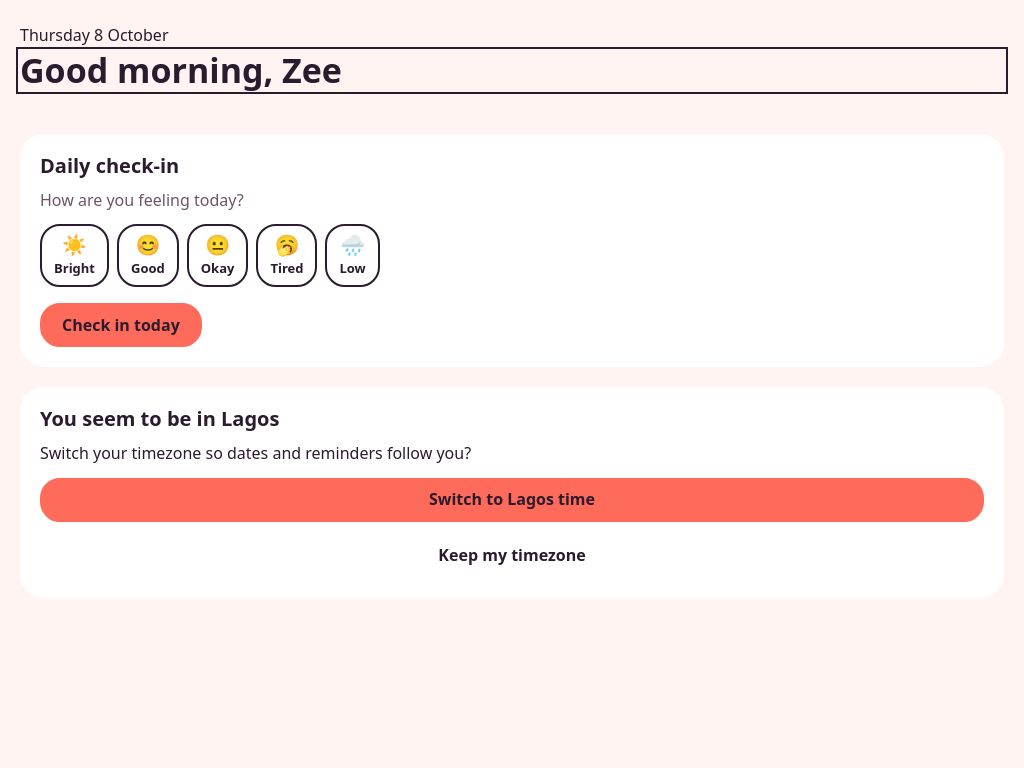
Test: [SET-1] her phone is in another timezone (spec 11.7, CR-030) › offers to switch, and switching saves the device timezone with her version
Expected: the element "You seem to be in Lagos" is shown, [20,388,1004,598]
Click the button "Switch to Lagos time". click: point(512, 500)
box: [40,478,984,522]
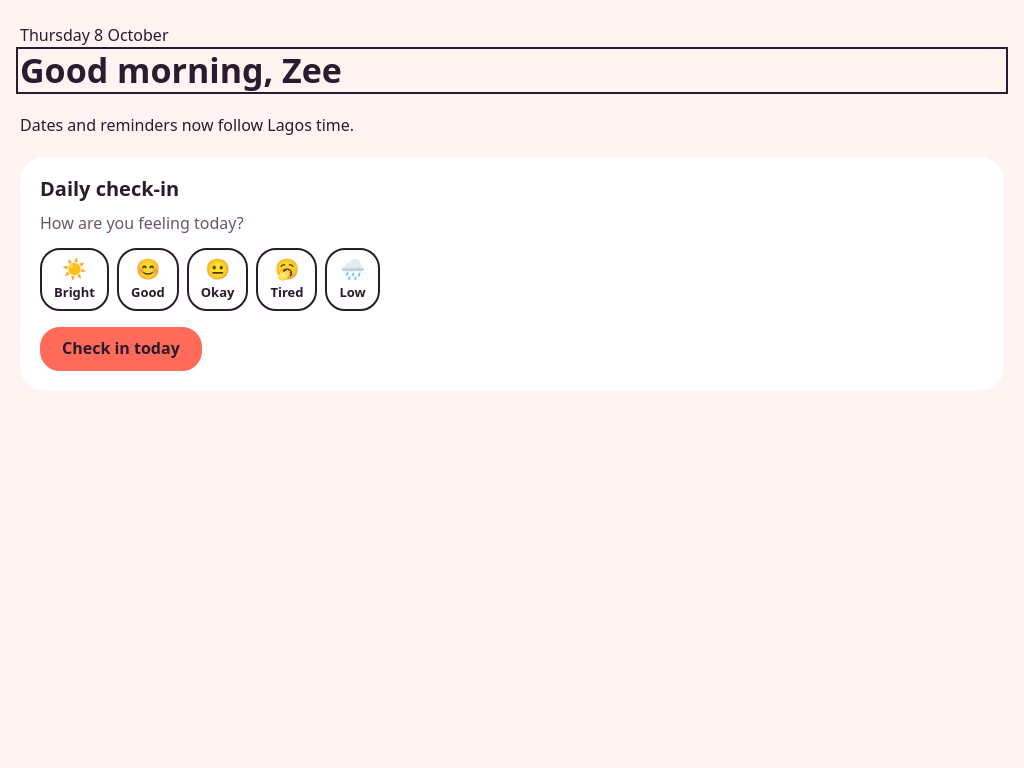
Expected: the heading "You seem to be in Lagos" is gone
